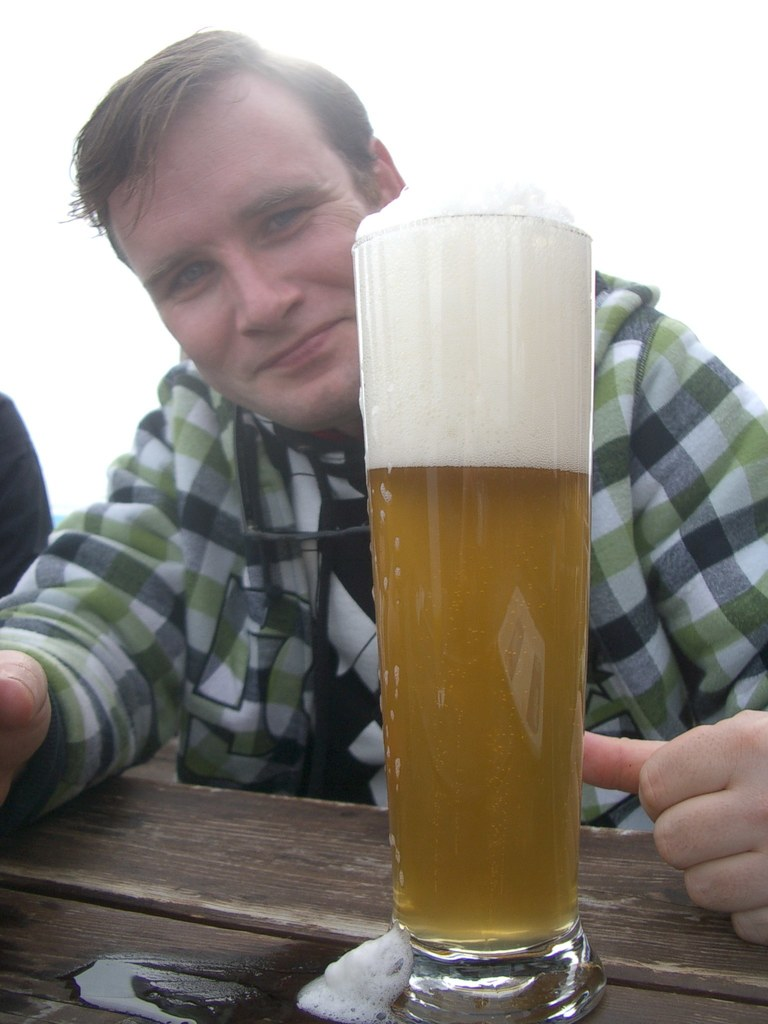Beer: (357, 174, 584, 952)
